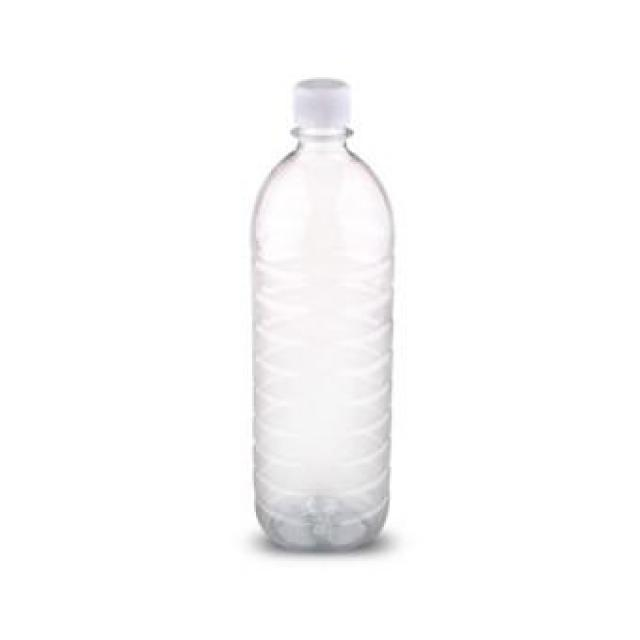bottle: (227, 61, 422, 559)
